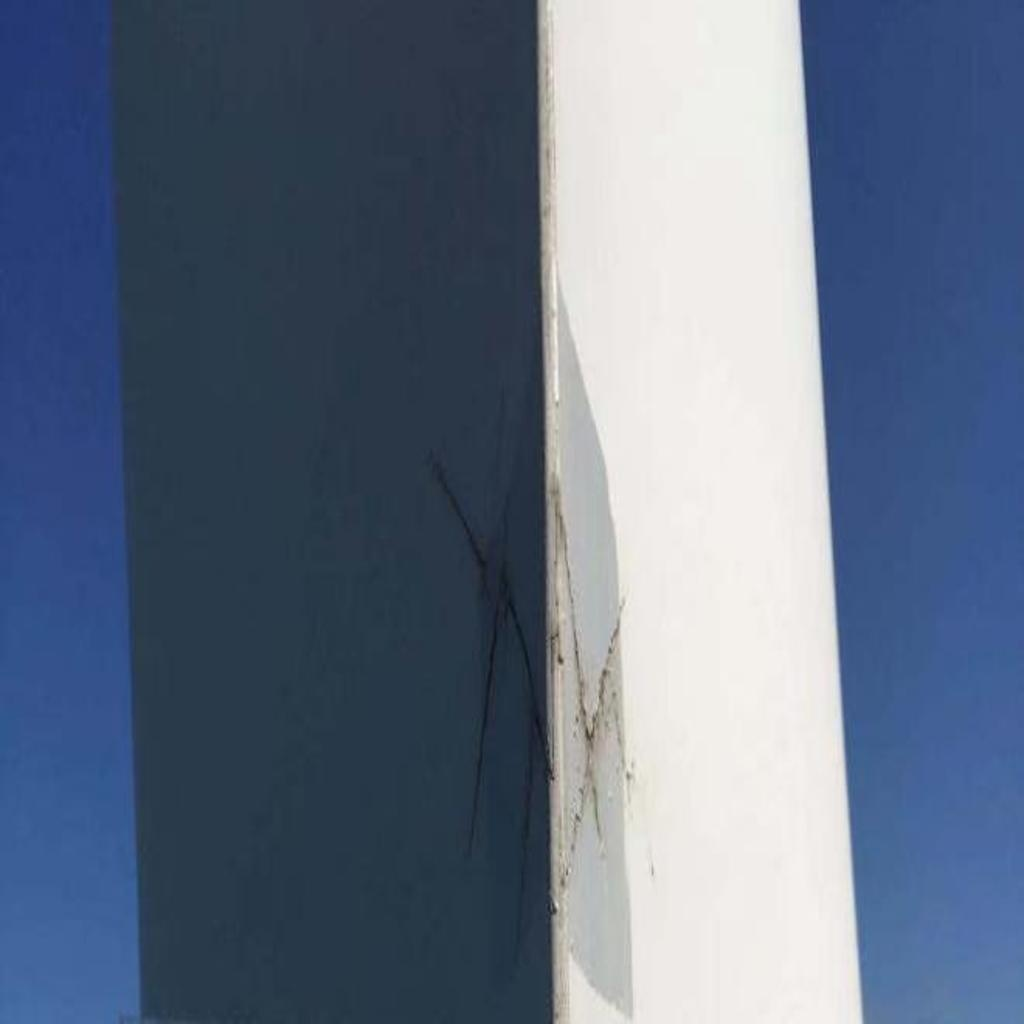hide_craze: (421, 465, 627, 916)
